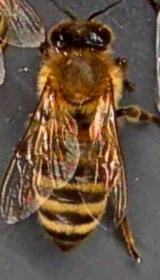varroa_mite: (98, 162, 119, 186)
